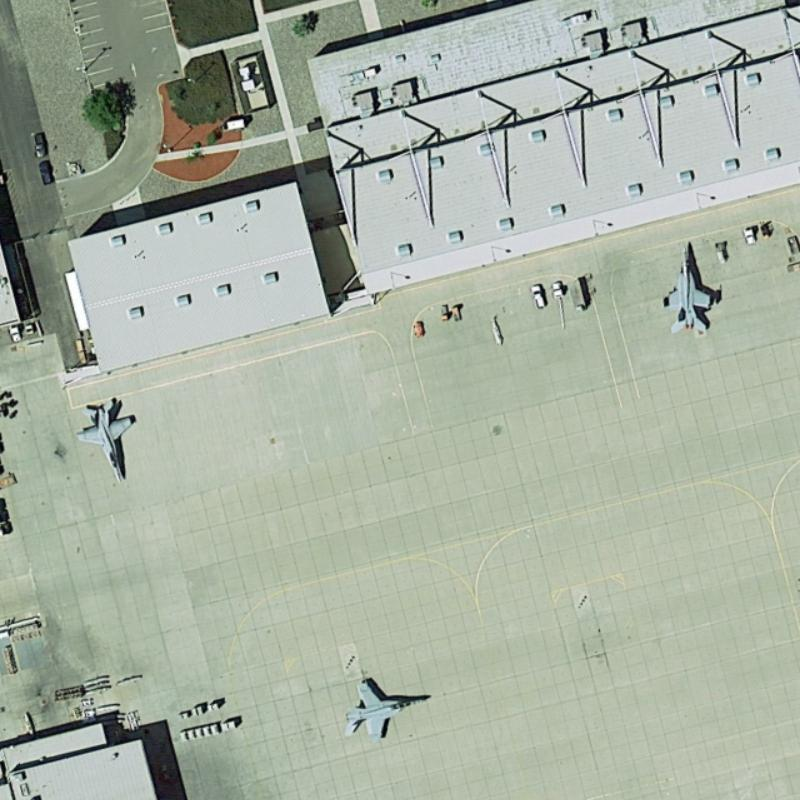A16: (335, 671, 436, 743), (69, 393, 145, 485), (659, 238, 725, 337)
